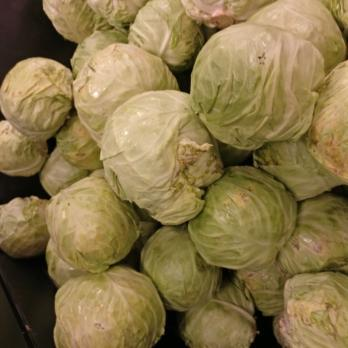Cabbage: (53, 0, 348, 346), (0, 50, 81, 153), (0, 191, 61, 261)
